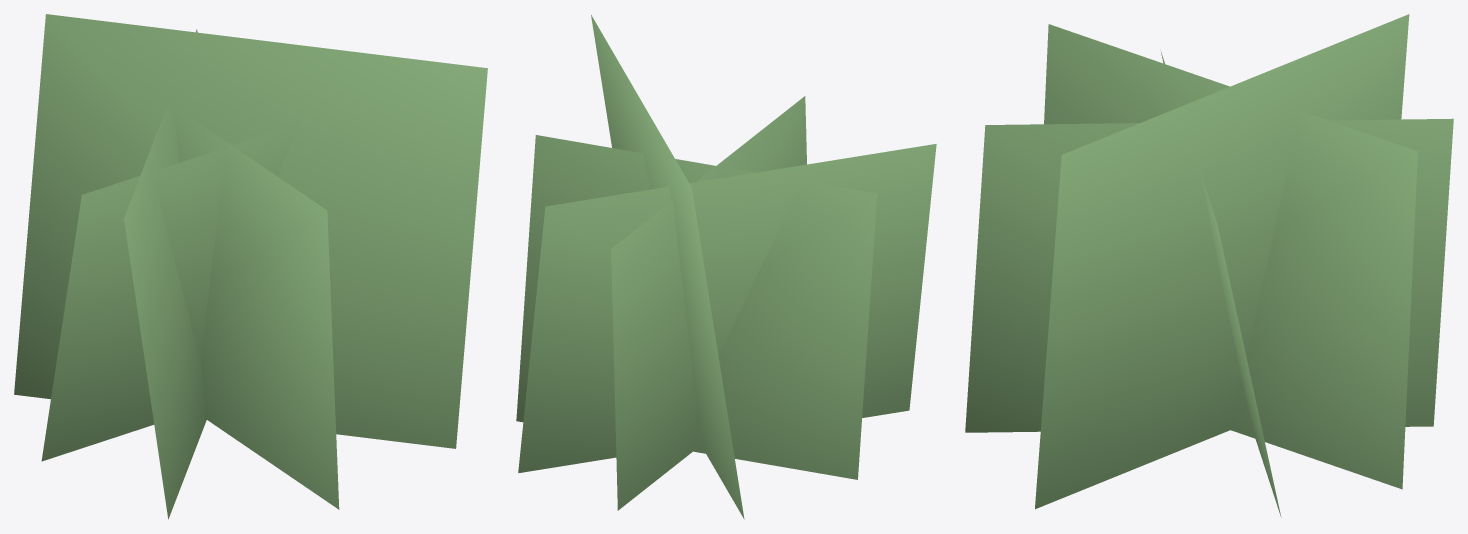
Rendered from bush_b.glb.
3 renders of one model, left to right at view 1: azimuth 30°, elevation 25°; view 2: azimuth 150°, elevation 25°; view 3: azimuth 270°, elevation 25°, orthographic. The views are drawn at different scales.
Visible parts, largest first — view 1: bush_b; view 2: bush_b; view 3: bush_b.
Boxes of the visible parts, box(x1,y1,x2,y2) form: bush_b: box(14, 14, 487, 519); bush_b: box(516, 15, 936, 519); bush_b: box(965, 14, 1453, 517).
Size of the model in its own units: 2.23 by 2.08 by 2.44.
